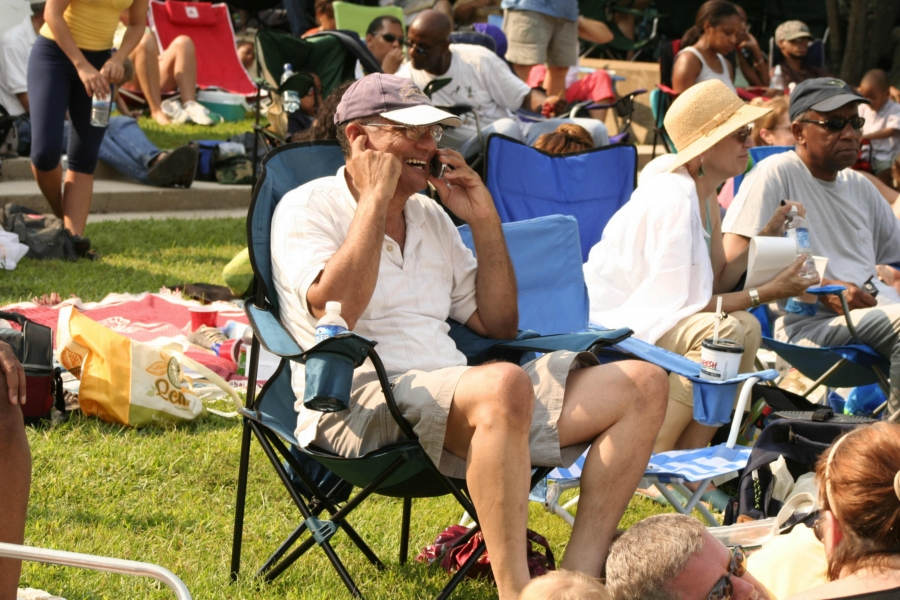phone: (420, 144, 459, 197)
talk: (389, 120, 486, 220)
